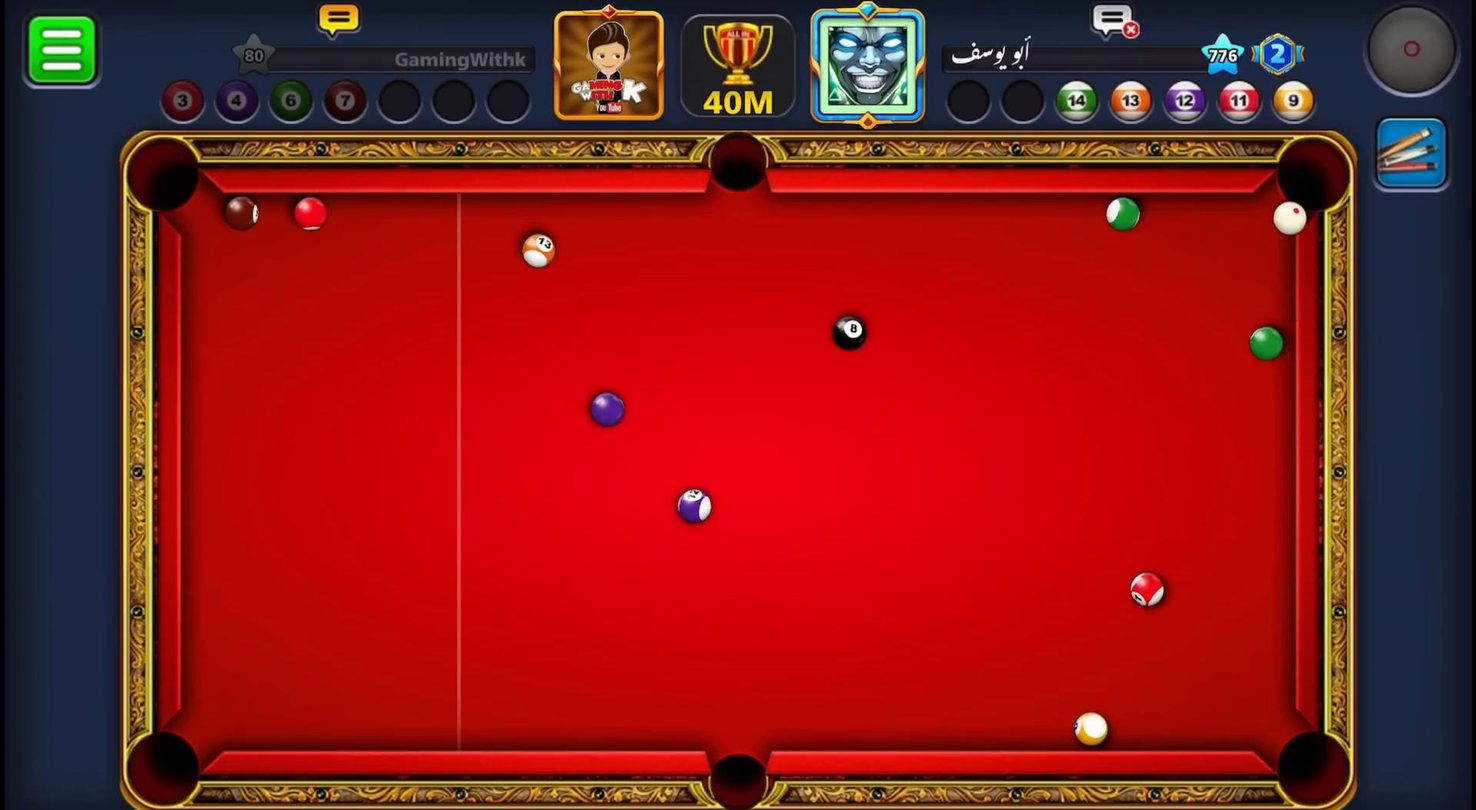Ball: (1098, 192, 1149, 233), (1127, 571, 1169, 619), (221, 198, 259, 241), (832, 310, 868, 351), (589, 390, 626, 428), (1252, 330, 1289, 368), (675, 490, 712, 527), (521, 231, 557, 268), (1076, 709, 1111, 745), (293, 195, 328, 231)
Hole: (1272, 132, 1356, 220), (1275, 731, 1352, 810), (124, 135, 202, 212), (126, 730, 202, 805), (702, 748, 771, 810), (708, 131, 768, 191)
Play_Area: (181, 192, 1293, 753)
Spin: (1360, 4, 1462, 99)
White: (1268, 202, 1306, 242)
